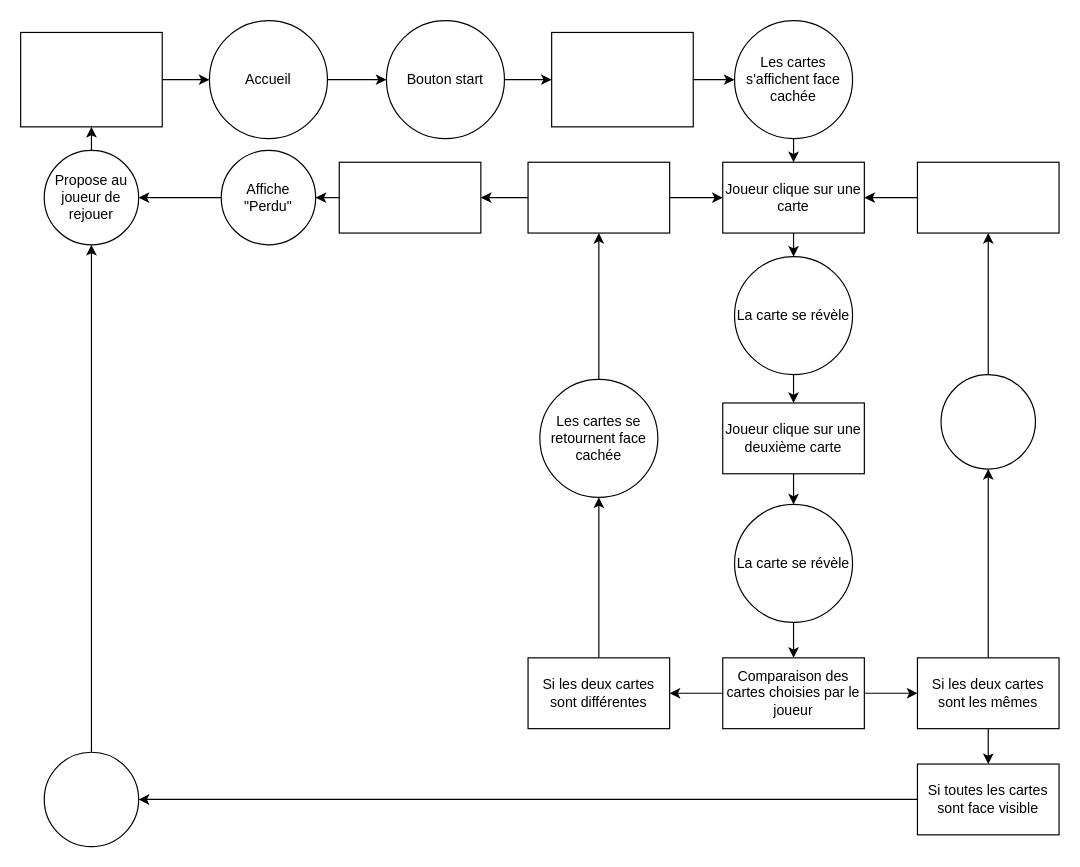
The diagram is 1080 pixels wide and 867 high, and some of its shapes have lost their labels. Here are the shapes that lost their labels. From the top down, the centre of each, then its label:
(90,79): Démarrage programme
(621,79): Les cartes se mélangent
(409,197): Si le nombre d'essais est égal à 0
(598,197): Le nombre d'essais diminue de 1
(987,197): Le clic sur ces deux cartes se désactive
(987,421): Les deux cartes restent face visible
(91,799): Affiche "Gagné"
